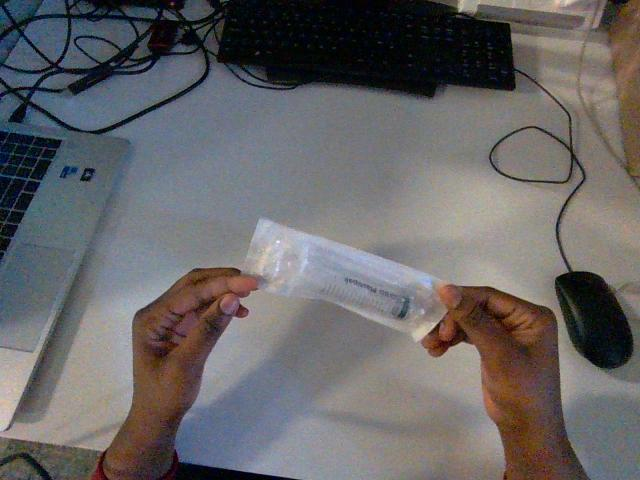syringe: (244, 218, 445, 340)
